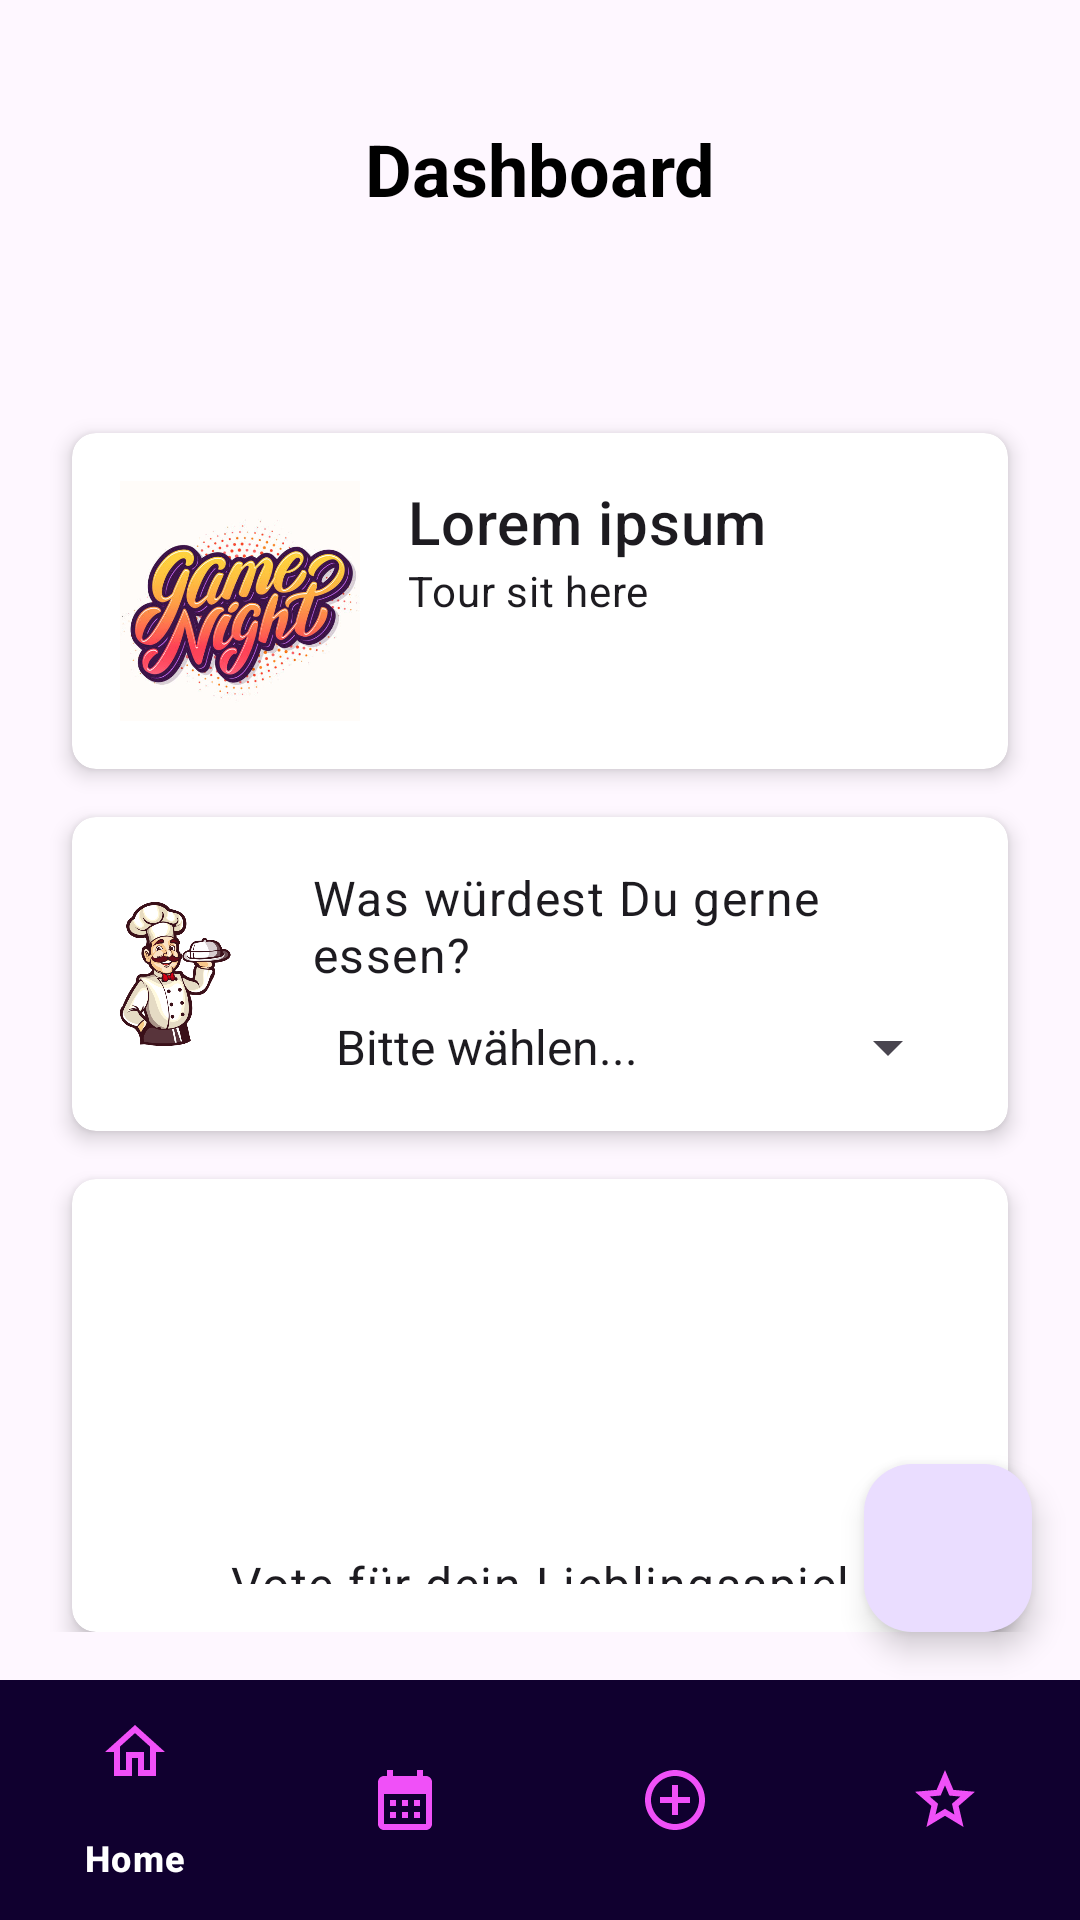

Icons on this 1080 × 1920 Android screen, each with its box as {"left": x1, "top": y1, "right": x2, "bottom": y2}:
koch: {"left": 120, "top": 902, "right": 231, "bottom": 1046}
